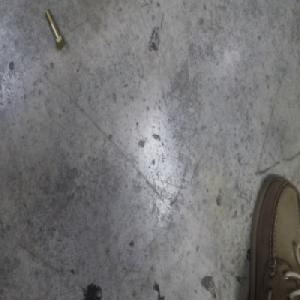Bolt: (45, 7, 66, 50)
